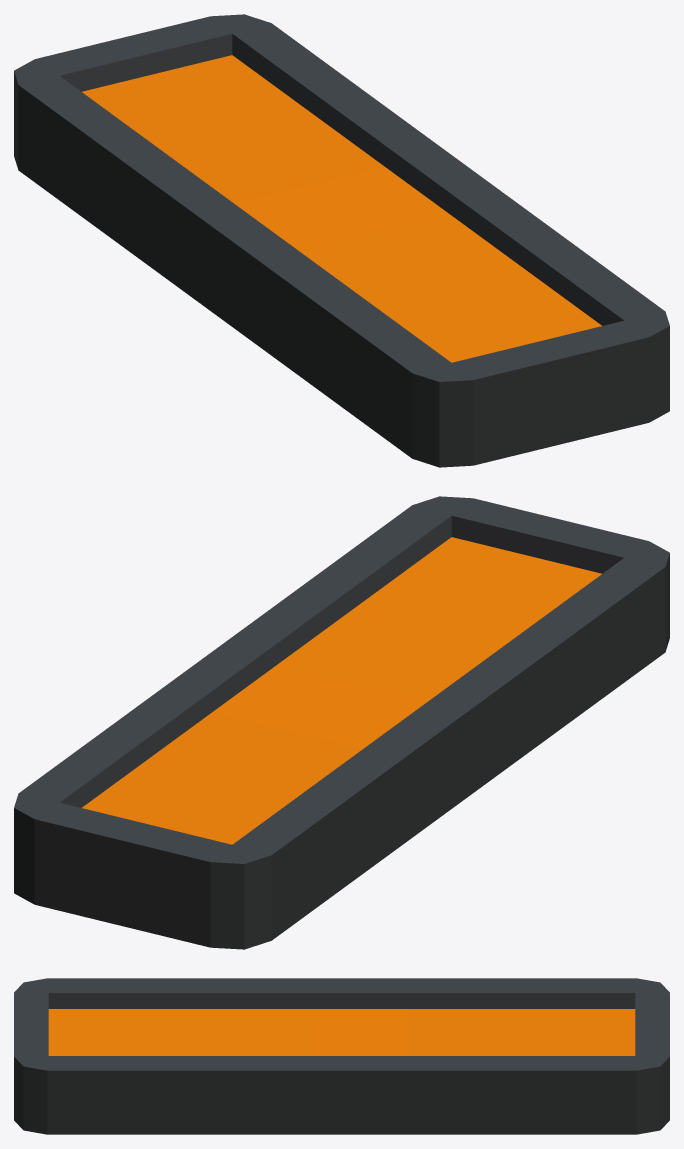
The model's file is LightBlock_01.glb.
The picture shows the model from 3 angles, top to bottom: view 1: azimuth 30°, elevation 25°; view 2: azimuth 150°, elevation 25°; view 3: azimuth 270°, elevation 25°; orthographic projection. The views are drawn at different scales.
Visible parts, largest first — view 1: LightBlock_01; view 2: LightBlock_01; view 3: LightBlock_01.
Boxes of the visible parts, x1,y1,x2,y2 form: LightBlock_01: (14,14,669,467); LightBlock_01: (14,496,669,949); LightBlock_01: (14,978,669,1134).
Size of what is drawn, in the model's own units: 0.4178 by 0.1348 by 1.25.
2 materials, 2 textured.
